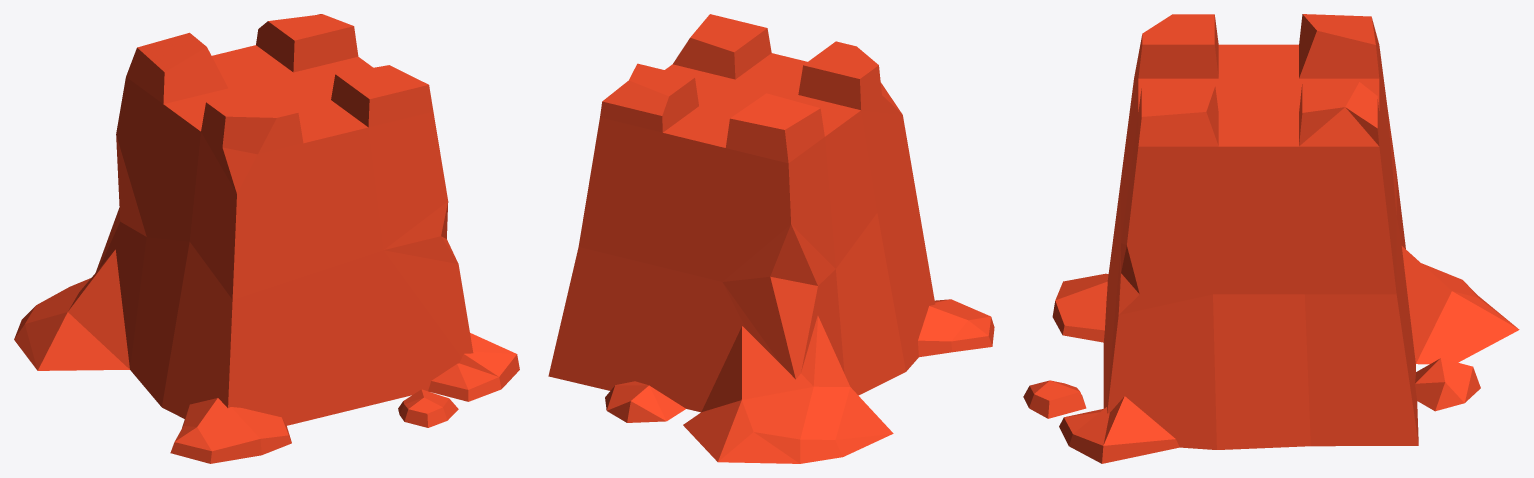
The model's file is SM_Castle_Sand_A_City.fbx.
The picture shows the model from 3 angles, left to right: view 1: azimuth 30°, elevation 25°; view 2: azimuth 150°, elevation 25°; view 3: azimuth 270°, elevation 25°; orthographic projection. The views are drawn at different scales.
Parts seen in each view (by area): view 1: SM_Castle_Sand_A_City; view 2: SM_Castle_Sand_A_City; view 3: SM_Castle_Sand_A_City.
Boxes of the visible parts, x1,y1,x2,y2 form: SM_Castle_Sand_A_City: (14, 14, 519, 463); SM_Castle_Sand_A_City: (548, 14, 994, 463); SM_Castle_Sand_A_City: (1023, 14, 1519, 463).
Bounding box in the file's own units: 0.3496 × 0.2772 × 0.387.
